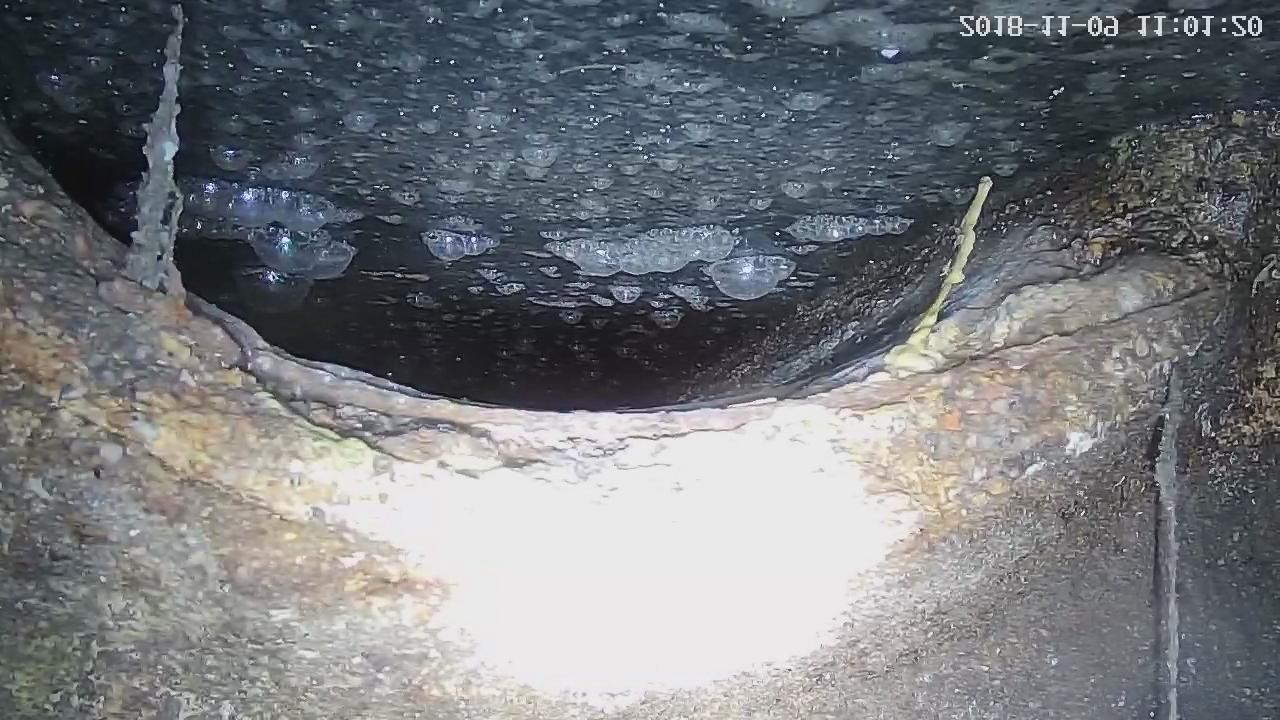FZ: (180, 1, 1279, 409), (0, 1, 158, 231)
